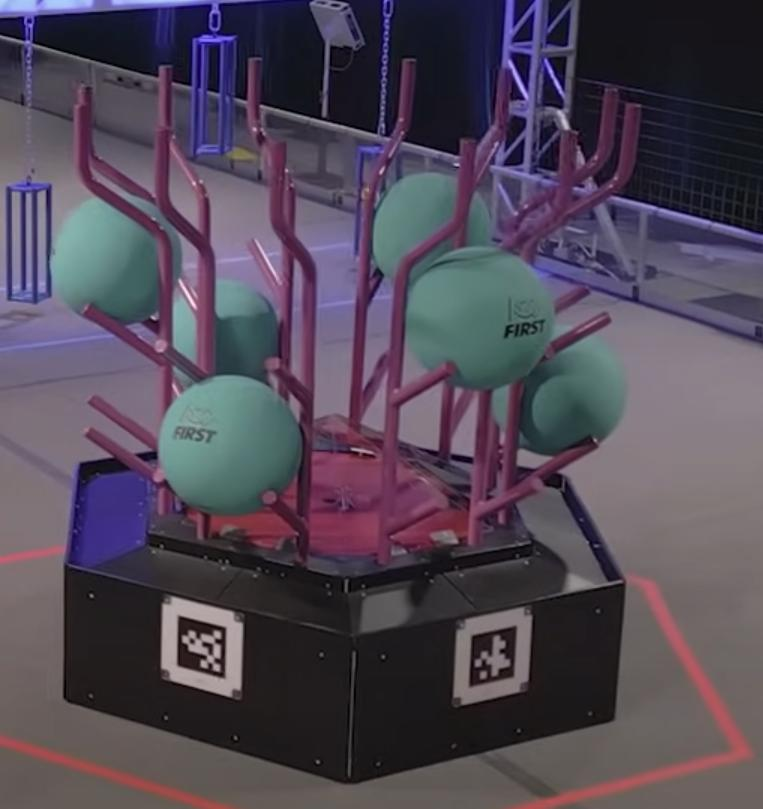algae: (406, 247, 553, 392), (157, 372, 303, 515), (492, 323, 626, 455), (49, 191, 176, 326), (371, 170, 493, 283), (182, 276, 283, 375)
